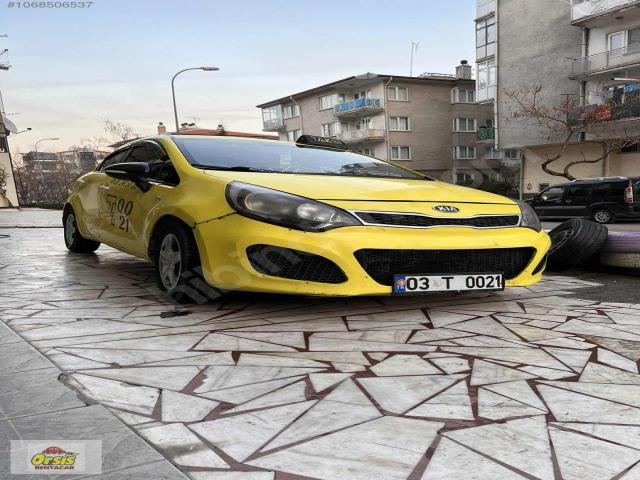plaka: (393, 273, 504, 293)
